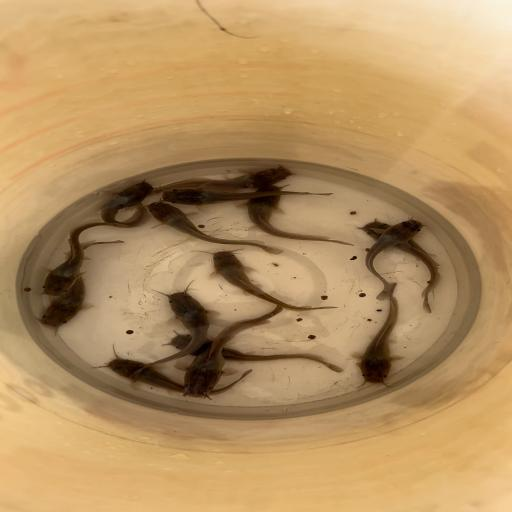lele: (178, 304, 284, 400), (203, 248, 344, 312), (125, 289, 212, 382), (39, 238, 126, 330), (358, 221, 444, 314), (166, 330, 345, 374), (145, 201, 285, 256), (37, 221, 130, 297), (245, 184, 356, 246), (100, 354, 253, 398), (356, 282, 405, 388), (364, 218, 424, 302), (148, 165, 293, 193), (156, 188, 335, 206), (97, 181, 155, 229)
